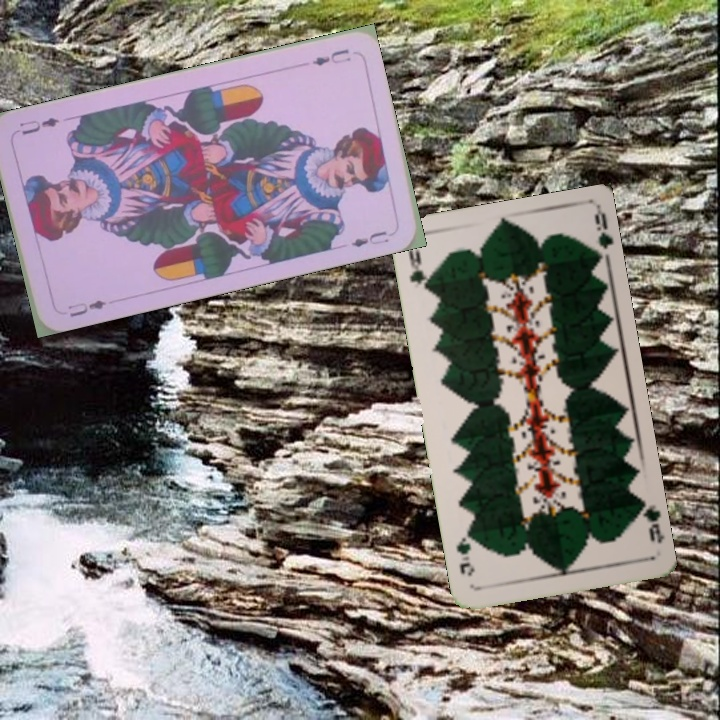EU: (308, 44, 354, 69), (64, 295, 108, 320)
G9: (633, 496, 665, 546), (404, 245, 433, 295)
